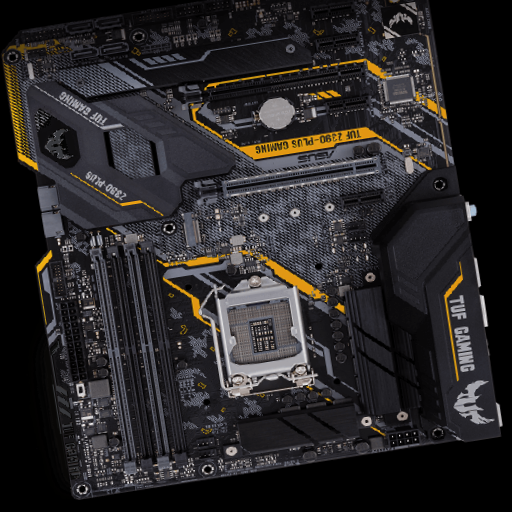CPU: (212, 274, 315, 400)
GPU: (195, 154, 381, 206), (182, 60, 367, 110)
MOTHERBOARD: (13, 3, 488, 497)
RAM: (87, 238, 191, 478)
SSD: (180, 208, 203, 248)
